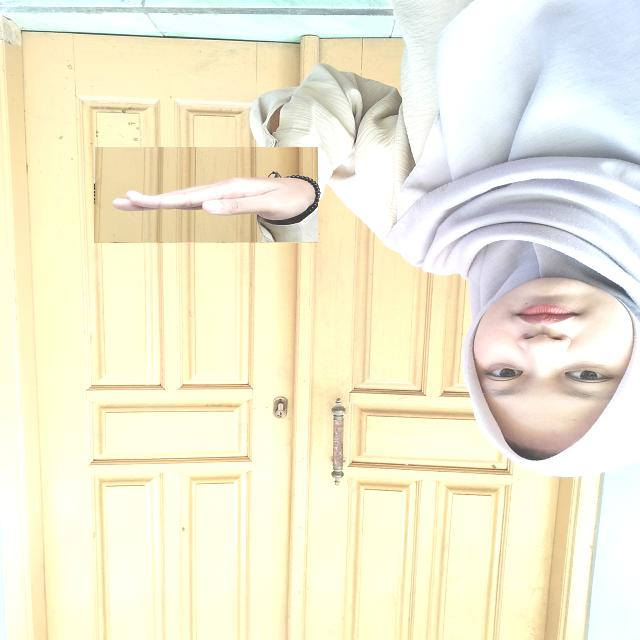adik: (94, 147, 318, 243)
